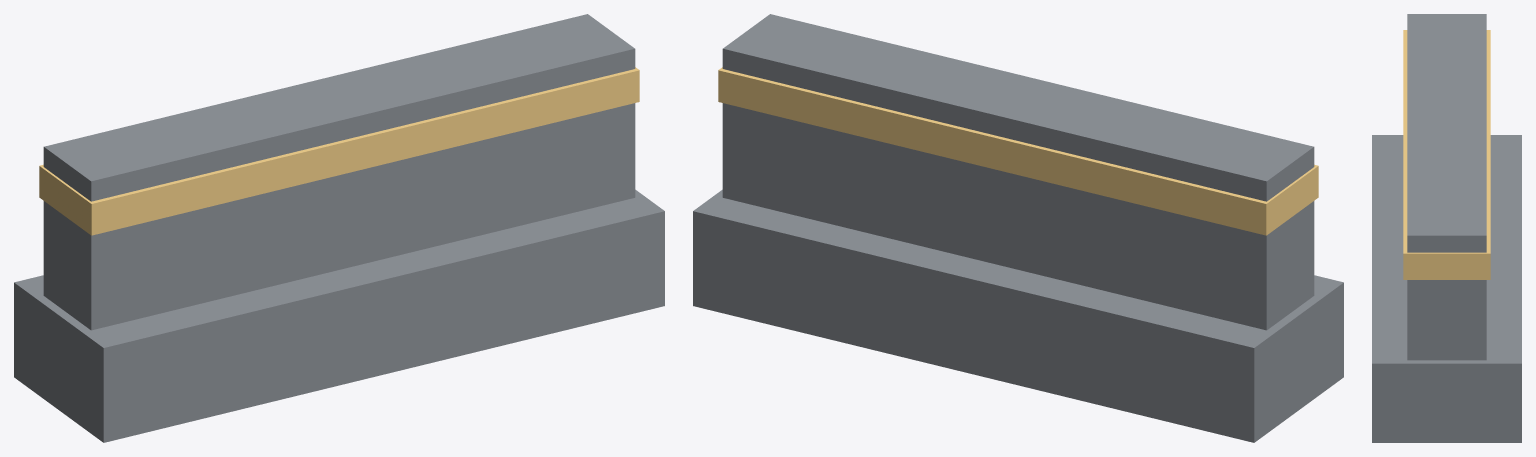
Rendered from barrier.glb.
3 renders of one model, left to right at view 1: azimuth 30°, elevation 25°; view 2: azimuth 150°, elevation 25°; view 3: azimuth 270°, elevation 25°, orthographic. The views are drawn at different scales.
Visible parts, largest first — view 1: BarrierTop, BarrierBase, Stripe; view 2: BarrierTop, BarrierBase, Stripe; view 3: BarrierBase, BarrierTop, Stripe.
Boxes of the visible parts, left/top/right/bottom form: BarrierTop: left=43, top=14, right=635, bottom=330; BarrierBase: left=14, top=189, right=664, bottom=442; Stripe: left=39, top=67, right=639, bottom=235; BarrierTop: left=722, top=14, right=1314, bottom=330; BarrierBase: left=693, top=189, right=1343, bottom=442; Stripe: left=718, top=67, right=1318, bottom=235; BarrierBase: left=1372, top=135, right=1521, bottom=442; BarrierTop: left=1407, top=14, right=1486, bottom=360; Stripe: left=1403, top=30, right=1490, bottom=279.
Bounding box in the file's own units: 2.6 × 1.08 × 0.72.
